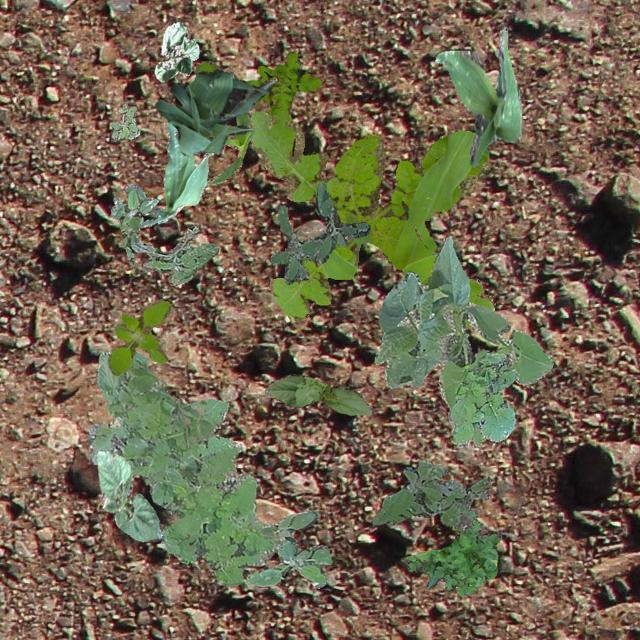crop: (373, 235, 552, 446), (434, 26, 522, 166), (111, 120, 212, 227), (153, 68, 274, 156), (96, 450, 162, 540), (264, 374, 370, 414), (204, 110, 253, 186), (154, 20, 198, 80)
weed: (250, 108, 494, 326), (86, 350, 278, 586), (268, 180, 369, 284), (194, 50, 320, 124), (404, 510, 500, 596), (372, 458, 489, 528), (446, 352, 516, 447), (118, 218, 218, 284), (246, 509, 330, 586), (108, 298, 170, 374), (110, 188, 158, 232), (110, 102, 138, 138)
